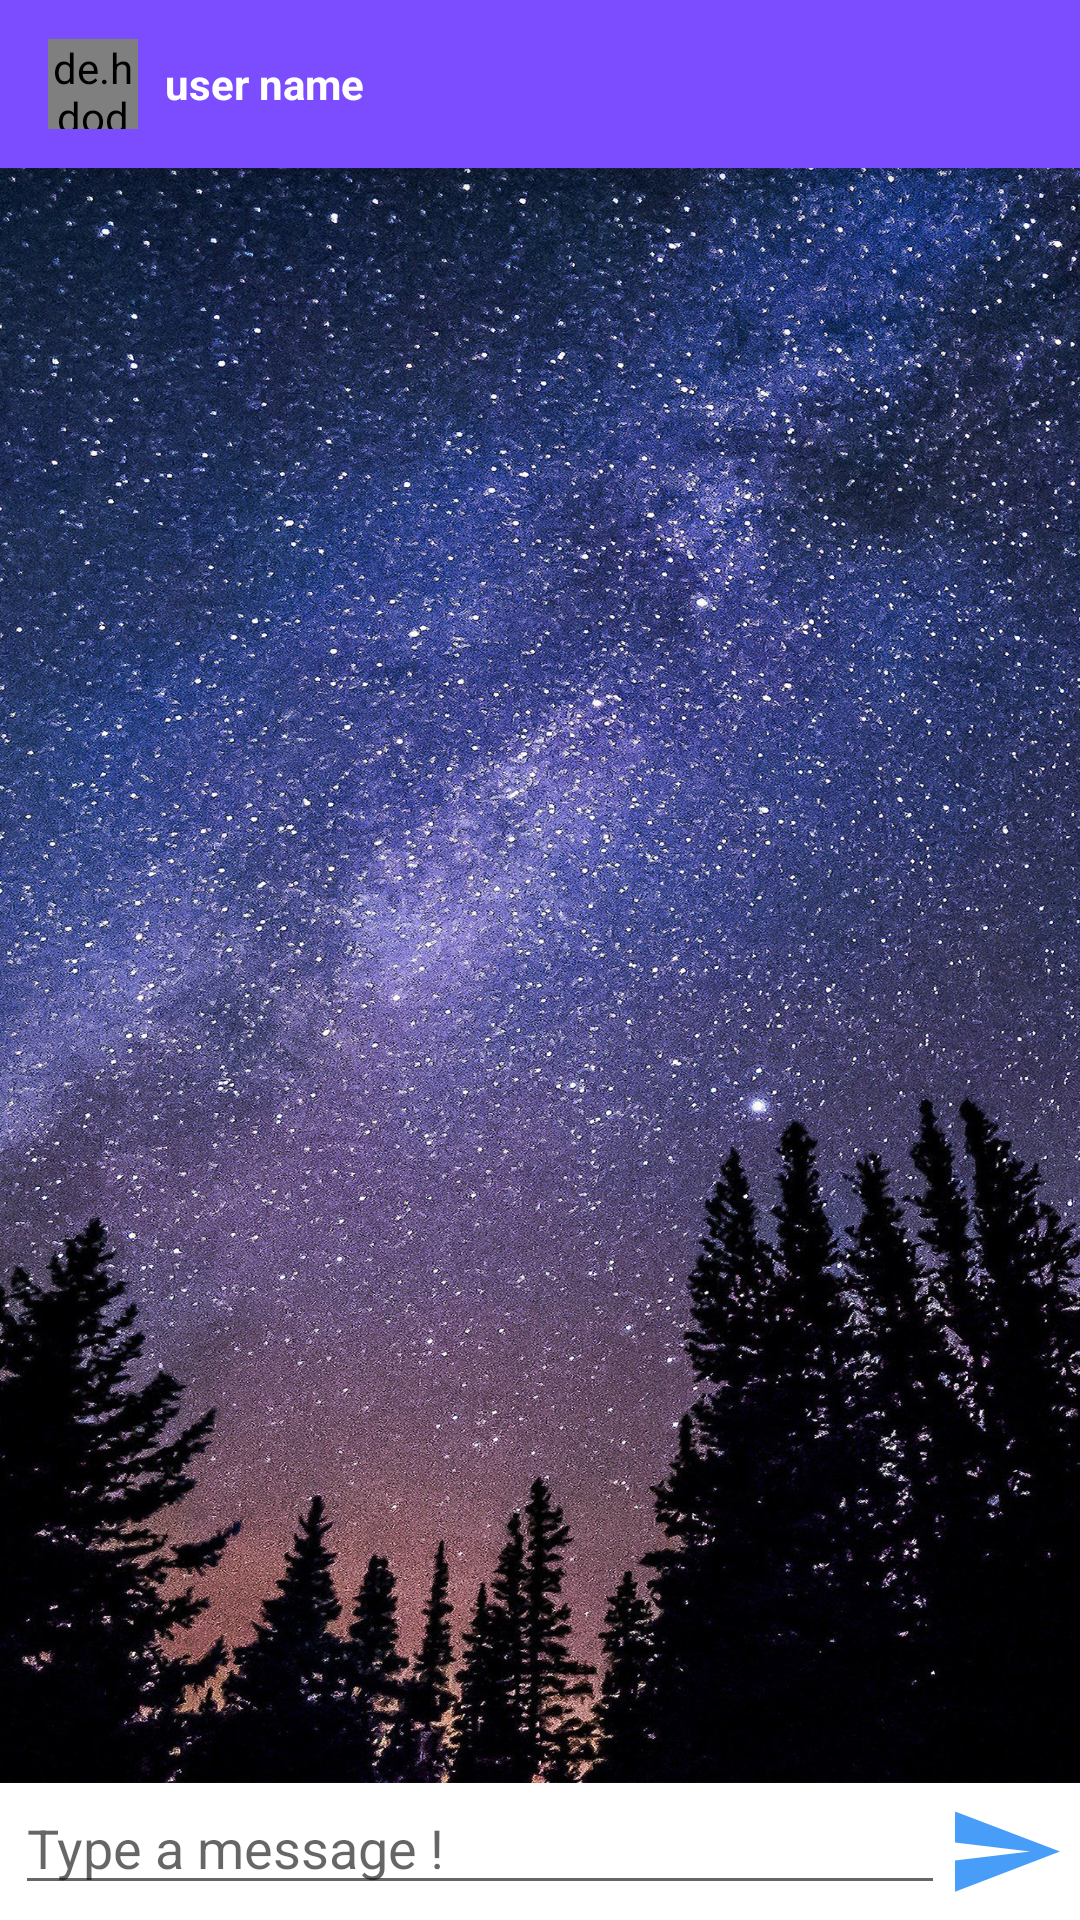

Screen size 1080 × 1920. Icon name, then its box in pixels as (x1, y1, x2, y2):
send: (955, 1811, 1060, 1892)
